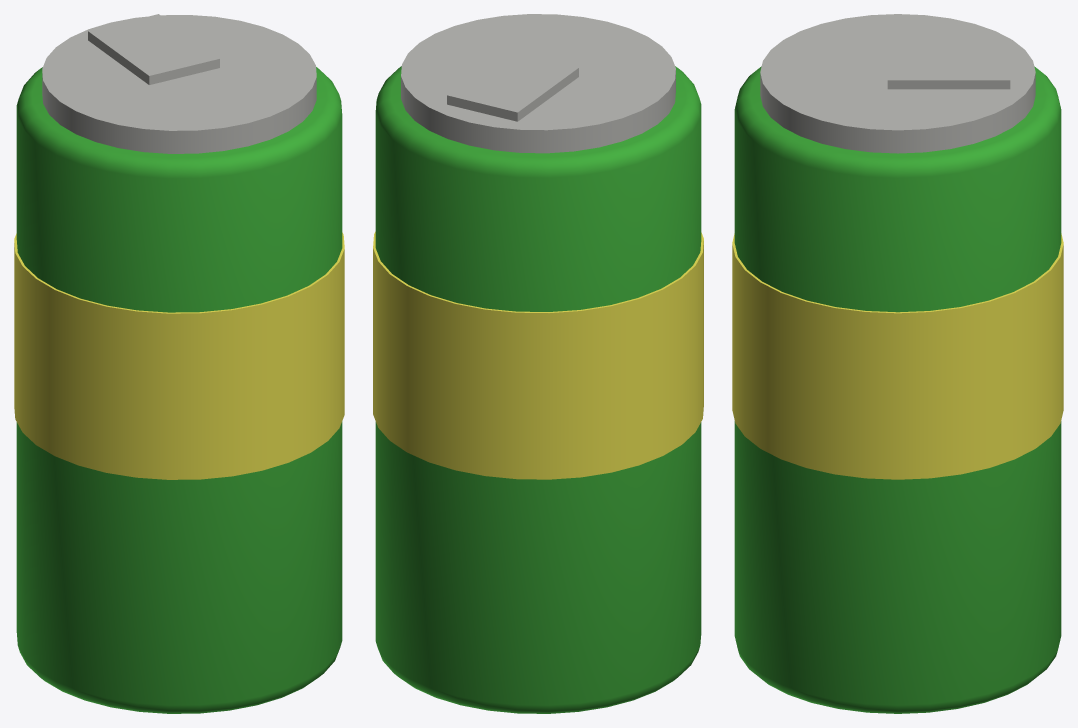
Rendered from staminaDrink.glb.
3 views of the same model, side by side, from view 1: azimuth 30°, elevation 25°; view 2: azimuth 150°, elevation 25°; view 3: azimuth 270°, elevation 25° (orthographic).
Parts seen in each view (by area): view 1: can, band, lid; view 2: can, band, lid; view 3: can, band, lid.
Part boxes in pixels (left/top/right/bottom): can: left=16, top=67, right=342, bottom=713; band: left=14, top=232, right=344, bottom=479; lid: left=42, top=14, right=316, bottom=153; can: left=375, top=66, right=701, bottom=713; band: left=373, top=231, right=703, bottom=479; lid: left=401, top=14, right=675, bottom=153; can: left=734, top=66, right=1061, bottom=713; band: left=732, top=233, right=1063, bottom=479; lid: left=760, top=14, right=1035, bottom=153.
Bounding box in the file's own units: 0.065 × 0.127 × 0.065.
